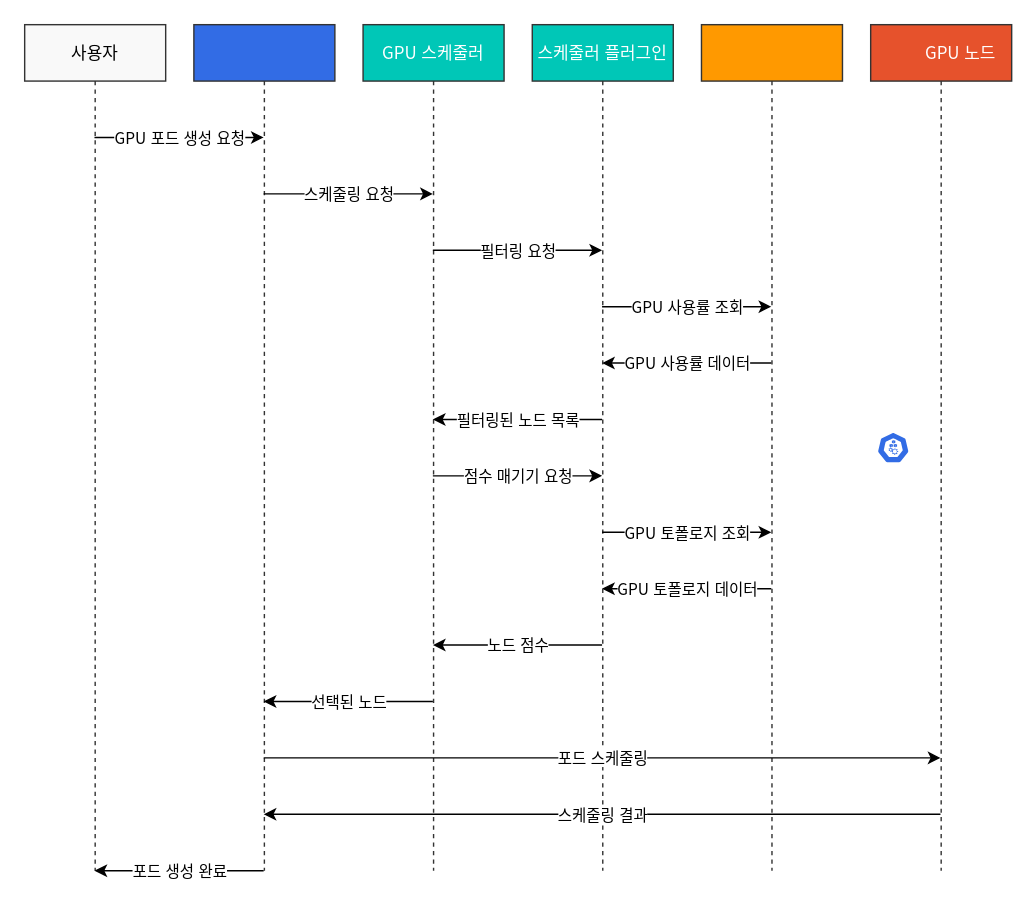
The diagram is 1036 pixels wide and 907 high, and some of its shapes have lost their labels. Here are the shapes that lost their labels. From the top down, the box of each, then its label:
(192, 23, 335, 871): API 서버
(700, 23, 842, 871): 메트릭 시스템
